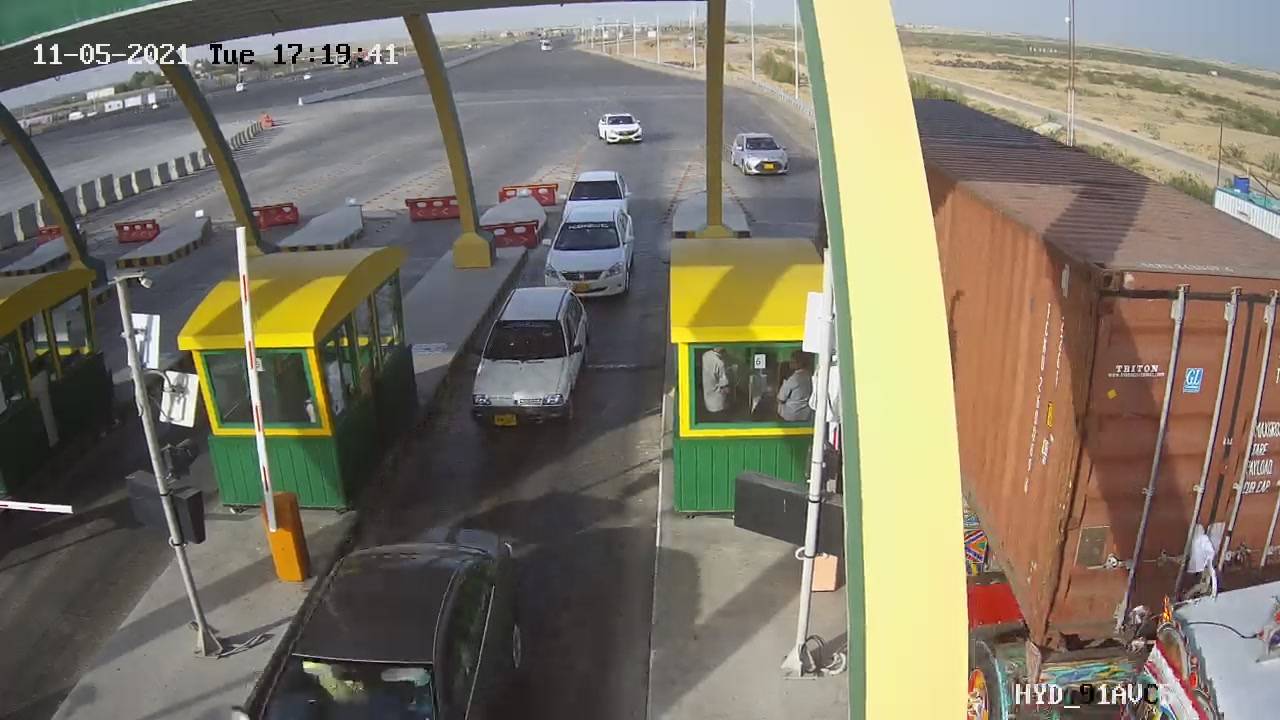F1: (457, 274, 605, 440), (527, 195, 651, 313)
